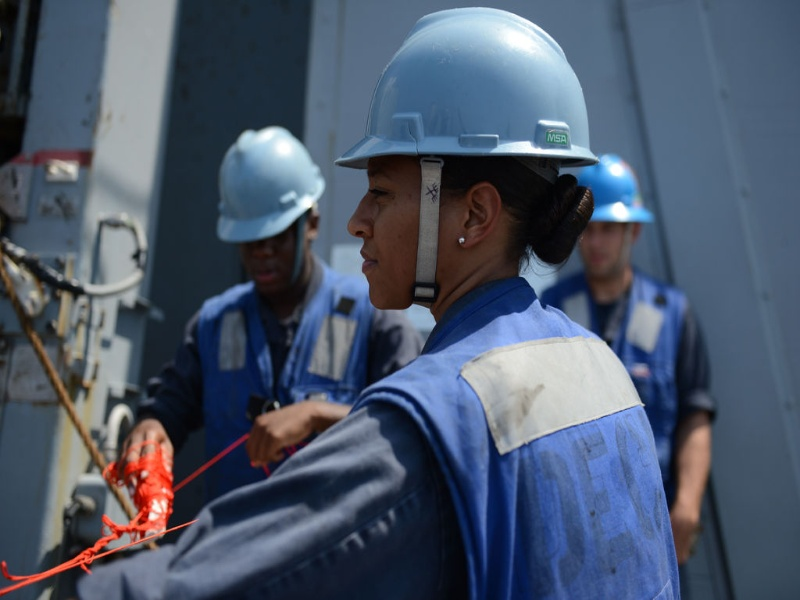helmet: (358, 7, 604, 170), (219, 127, 325, 245), (580, 157, 663, 235)
jacket: (396, 306, 669, 600), (539, 260, 699, 438), (207, 266, 364, 432)
